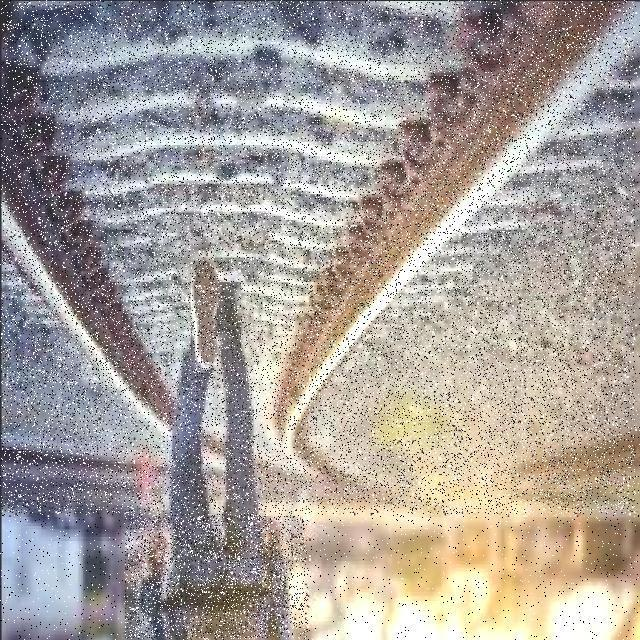danger: (126, 254, 308, 639)
rail: (1, 1, 635, 514)
